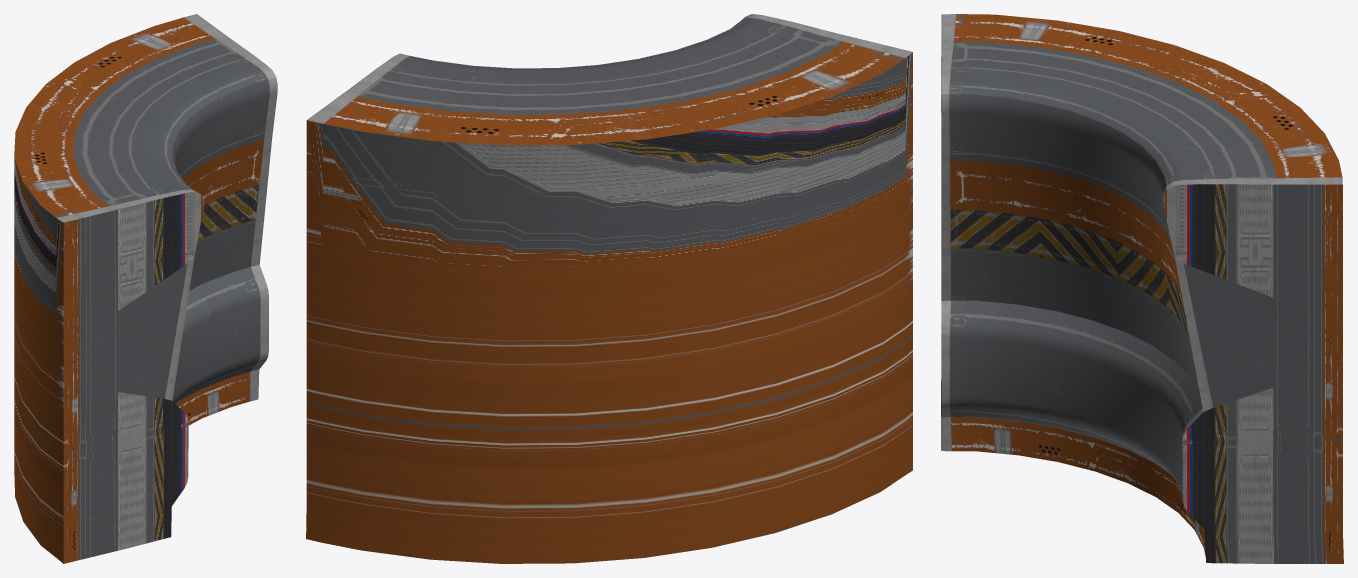
File: wall_OUT_c.FBX
3 views of the same model, side by side, from view 1: azimuth 30°, elevation 25°; view 2: azimuth 150°, elevation 25°; view 3: azimuth 270°, elevation 25° (orthographic). The views are drawn at different scales.
Parts seen in each view (by area): view 1: Object015; view 2: Object015; view 3: Object015.
Part boxes in pixels (x1,y1,x2,y2): Object015: (14, 14, 277, 563); Object015: (306, 14, 912, 563); Object015: (941, 14, 1343, 563).
Size of the model in its own units: 289 by 300 by 289.
